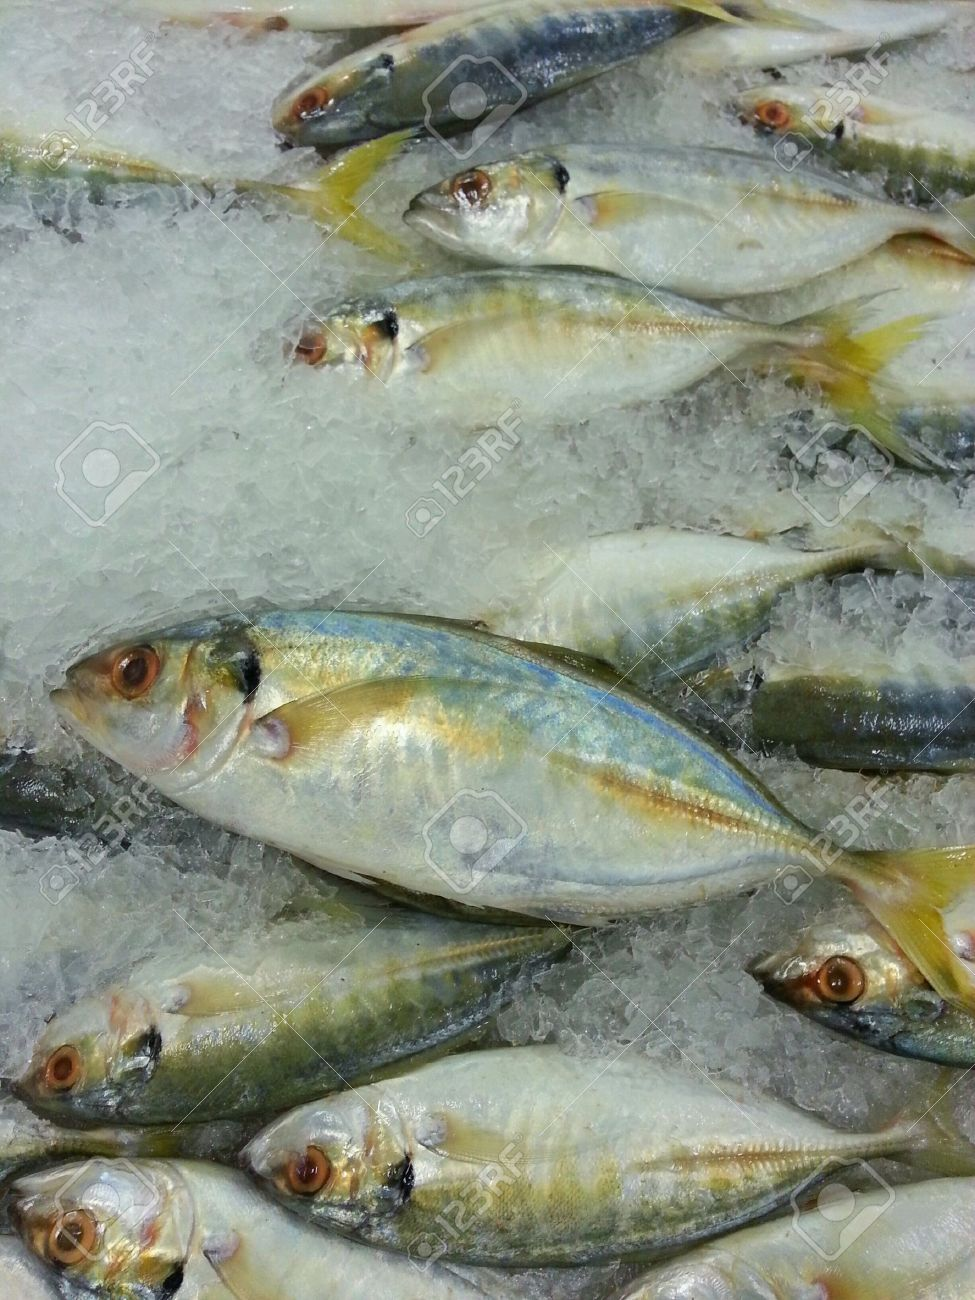Ikan Selar: (42, 598, 957, 937), (232, 1048, 971, 1272), (256, 262, 898, 449), (400, 123, 975, 315), (16, 940, 613, 1120)
